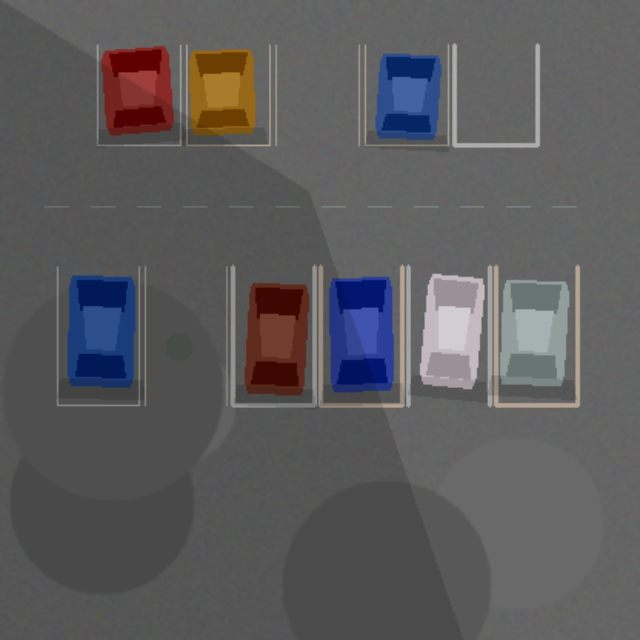space-empty: (145, 266, 226, 405), (275, 45, 358, 145), (454, 45, 537, 145)
space-occupied: (232, 266, 314, 405), (320, 266, 402, 405), (495, 266, 577, 405), (57, 266, 138, 405), (408, 266, 489, 405), (97, 45, 180, 145), (186, 45, 269, 145), (365, 45, 448, 145)
